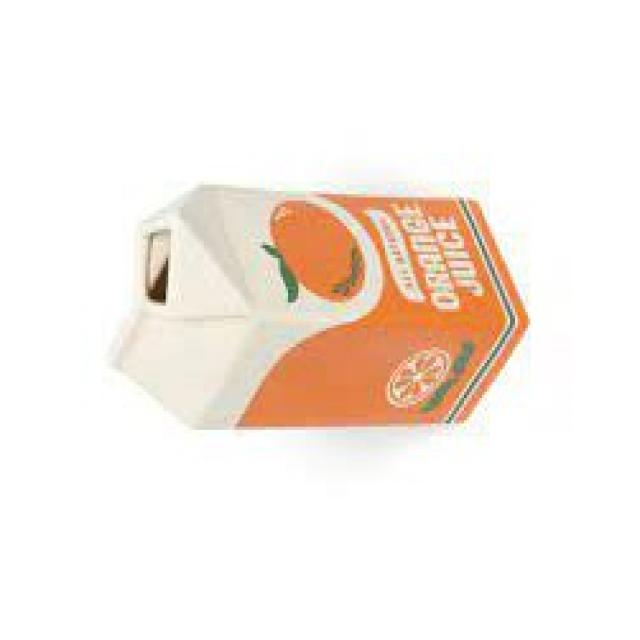non_white_jug: (101, 182, 534, 438)
